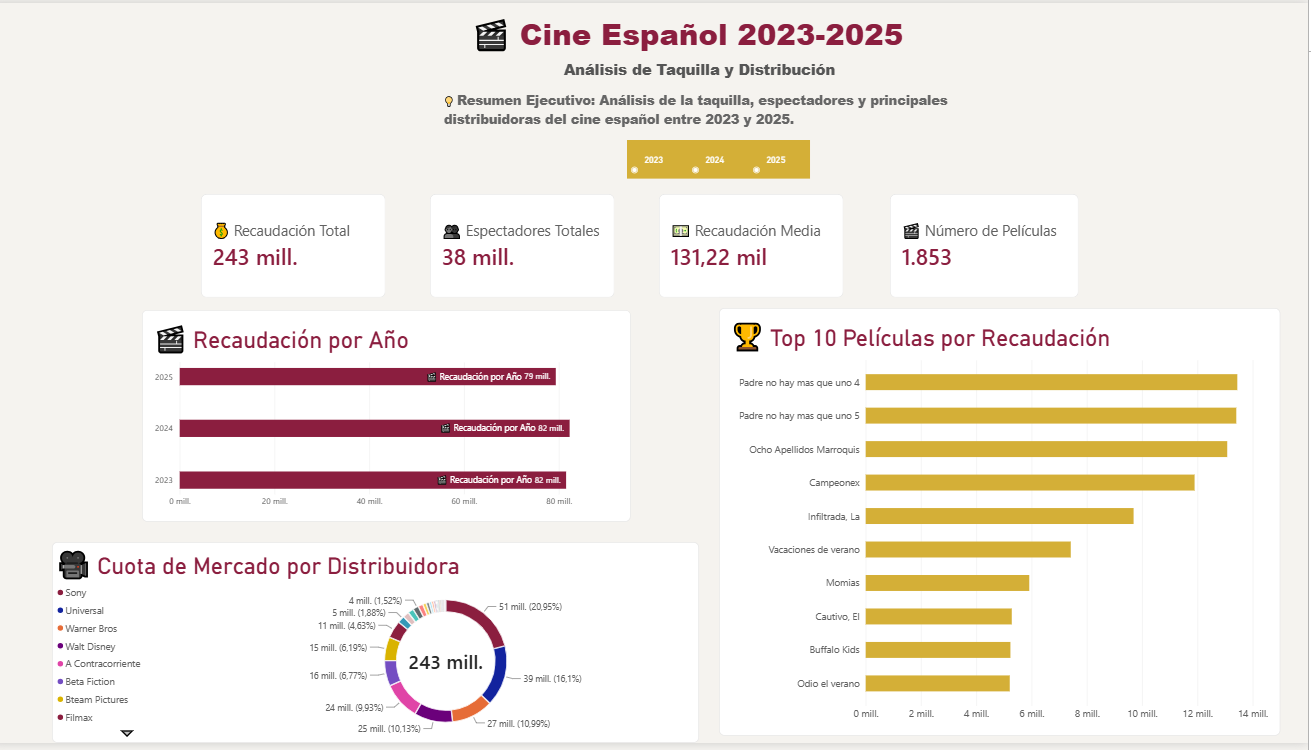

This screenshot's page, from the dashboard's own definition file:
{"tool":"powerbi","page":{"name":"🎬 Resumen Ejecutivo","canvas":[1920,1080],"ordinal":0},"visuals":[{"type":"cardVisual","fields":{"Data":["Sum(taquilla_limpia.recaudacion)"]},"box":[304.9,278.7,269.9,151.7],"z":0},{"type":"cardVisual","fields":{"Data":["Sum(taquilla_limpia.espectadores)"]},"box":[639,278.7,269.9,151.7],"z":1000},{"type":"cardVisual","fields":{"Data":["taquilla_limpia.Numero Peliculas Texto"]},"box":[1310.2,278.7,275.7,151.7],"z":2000},{"type":"cardVisual","fields":{"Data":["Avg(taquilla_limpia.recaudacion)"]},"box":[973.1,278.7,269.9,151.7],"z":3000},{"type":"barChart","title":"🎬 Recaudación por Año ","fields":{"Category":["taquilla_limpia.anio"],"Y":["Sum(taquilla_limpia.recaudacion)"]},"box":[218.7,448,713.3,309.3],"z":4000},{"type":"barChart","title":"🏆 Top 10 Películas por Recaudación ","fields":{"Category":["taquilla_limpia.titulo"],"Y":["Sum(taquilla_limpia.recaudacion)"]},"box":[1060,445.3,818.7,624],"z":5000},{"type":"donutChart","title":"🎥 Cuota de Mercado por Distribuidora ","fields":{"Category":["taquilla_limpia.Distribuidora Agrupada"],"Y":["Sum(taquilla_limpia.recaudacion)"]},"box":[87.5,786.4,944,293.3],"z":6000},{"type":"textbox","box":[700,14.7,654.7,66.7],"z":7000},{"type":"advancedSlicerVisual","fields":{"Values":["taquilla_limpia.anio"]},"box":[926.4,199.9,269.9,56.9],"z":8000},{"type":"textbox","box":[774.7,81.7,514.7,46.7],"z":9000},{"type":"textbox","box":[659.5,128.4,777.3,60],"z":10000}]}

Visuals, with their boxes in screenshot pixels (x1, y1, x2, y2), scaled from the page's 1920x1080 canvas onto the 1311x750 screenshot:
cardVisual - Sum(taquilla_limpia.recaudacion): crop(208, 194, 392, 299)
cardVisual - Sum(taquilla_limpia.espectadores): crop(436, 194, 621, 299)
cardVisual - taquilla_limpia.Numero Peliculas Texto: crop(895, 194, 1083, 299)
cardVisual - Avg(taquilla_limpia.recaudacion): crop(664, 194, 849, 299)
"🎬 Recaudación por Año " barChart: crop(149, 311, 636, 526)
"🏆 Top 10 Películas por Recaudación " barChart: crop(724, 309, 1283, 743)
"🎥 Cuota de Mercado por Distribuidora " donutChart: crop(60, 546, 704, 749)
textbox: crop(478, 10, 925, 57)
advancedSlicerVisual - taquilla_limpia.anio: crop(633, 139, 817, 178)
textbox: crop(529, 57, 880, 89)
textbox: crop(450, 89, 981, 131)
